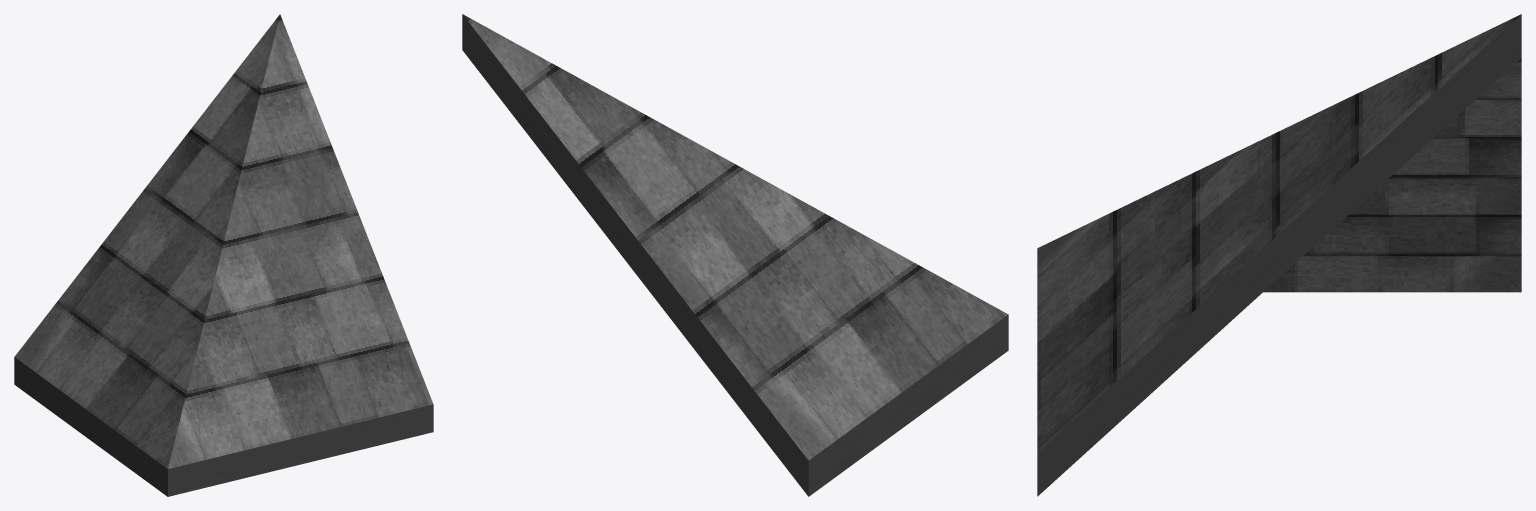
The model's file is Roof_Corner.glb.
The picture shows the model from 3 angles, left to right: view 1: azimuth 30°, elevation 25°; view 2: azimuth 150°, elevation 25°; view 3: azimuth 270°, elevation 25°; orthographic projection. The views are drawn at different scales.
Visible parts, largest first — view 1: Roof_Corner.001; view 2: Roof_Corner.001; view 3: Roof_Corner.001.
Boxes of the visible parts, x1=… form: Roof_Corner.001: x1=14, y1=14, x2=433, y2=496; Roof_Corner.001: x1=462, y1=14, x2=1008, y2=496; Roof_Corner.001: x1=1037, y1=14, x2=1521, y2=496.
Bounding box in the file's own units: 2 × 2.2 × 2.
1 material, 1 textured.
